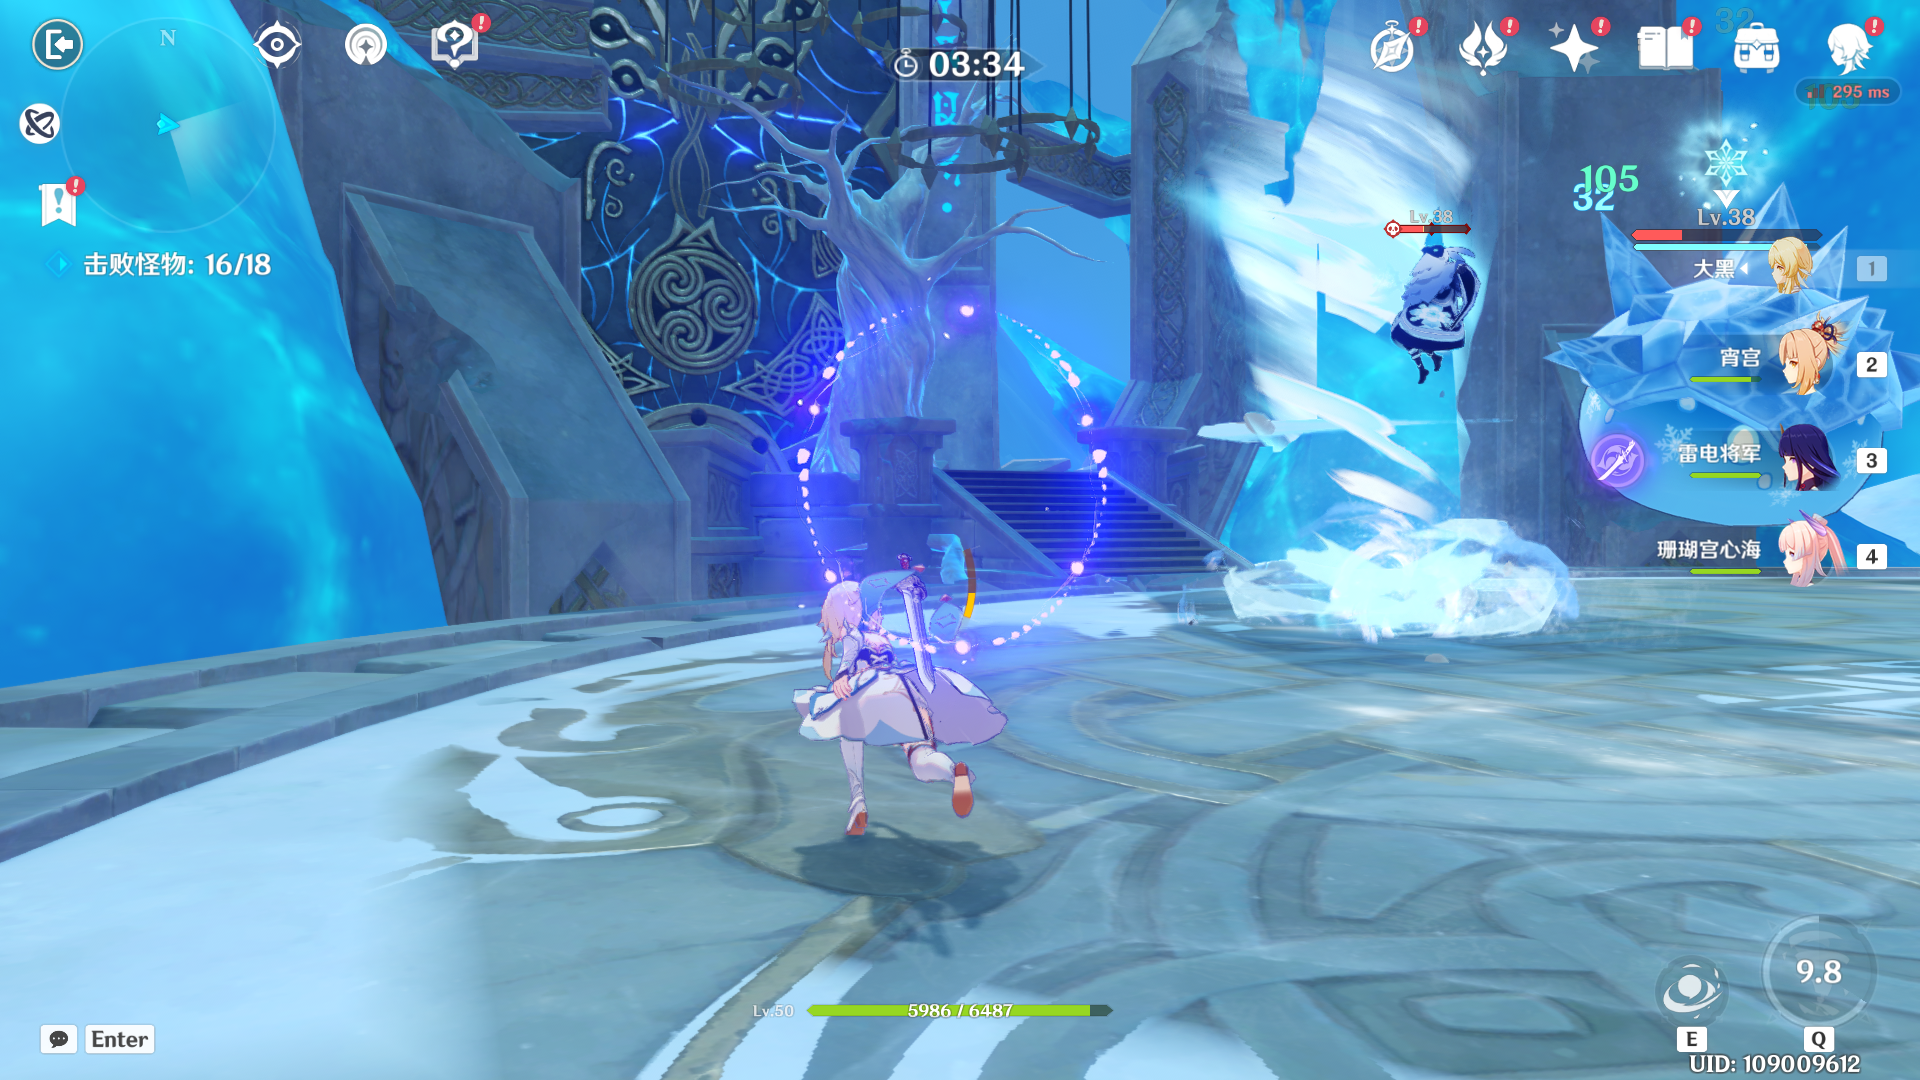caster: (1348, 208, 1524, 400)
character: (767, 542, 1040, 878)
slime: (1544, 193, 1920, 617)
